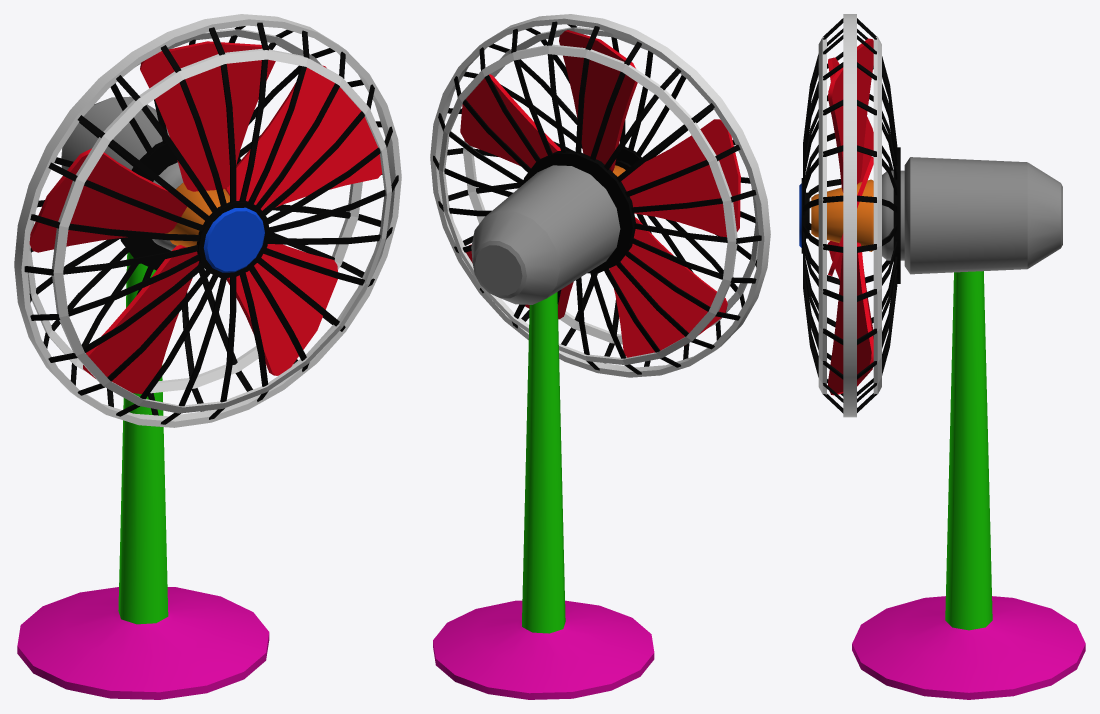
Rendered from ventilador_low.fbx.
3 renders of one model, left to right at view 1: azimuth 30°, elevation 25°; view 2: azimuth 150°, elevation 25°; view 3: azimuth 270°, elevation 25°, orthographic. The views are drawn at different scales.
Visible parts, largest first — view 1: estructura_low, aspas_low, pie_low; view 2: estructura_low, pie_low, aspas_low; view 3: estructura_low, pie_low, aspas_low.
Part boxes in pixels (box(x1,y1,x2,y2)): estructura_low: box(14, 14, 401, 427); aspas_low: box(29, 41, 382, 393); pie_low: box(17, 252, 269, 699); estructura_low: box(430, 14, 770, 377); pie_low: box(433, 292, 654, 699); aspas_low: box(460, 30, 740, 357); estructura_low: box(799, 14, 1062, 417); pie_low: box(852, 271, 1085, 699); aspas_low: box(811, 38, 873, 395).
Bounding box in the file's own units: 71.37 × 121 × 50.64.
